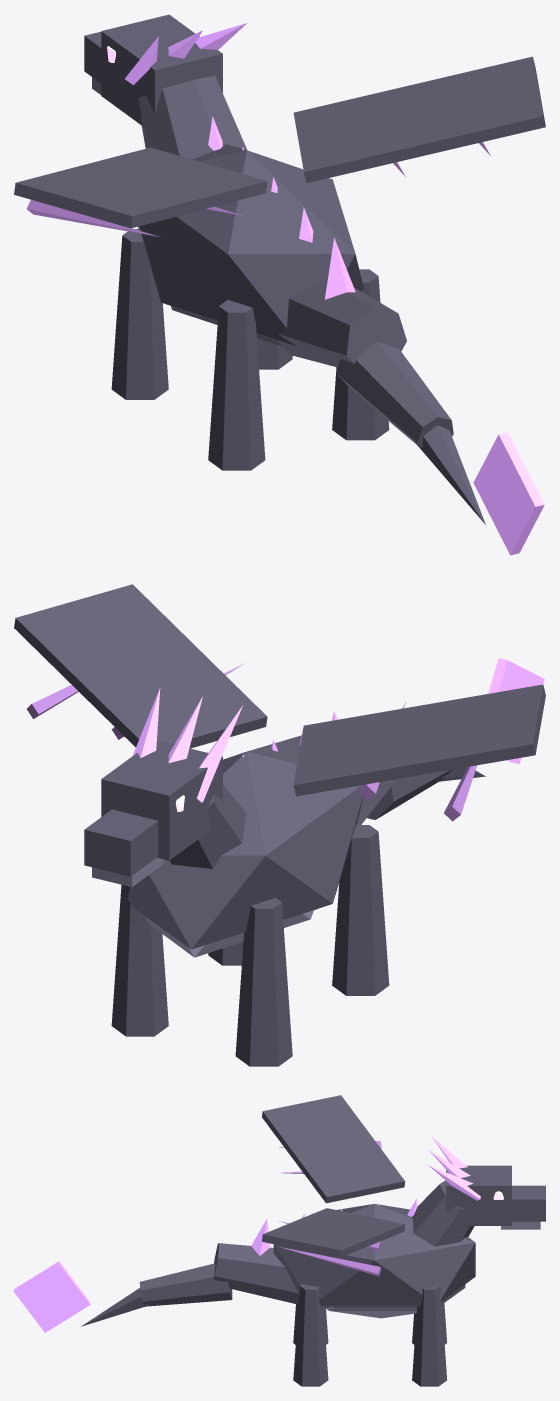
Rendered from dragon_shadow.glb.
The picture shows the model from 3 angles, top to bottom: view 1: azimuth 30°, elevation 25°; view 2: azimuth 150°, elevation 25°; view 3: azimuth 270°, elevation 25°; orthographic projection. The views are drawn at different scales.
Visible parts, largest first — view 1: DragonBody, DragonWingR, DragonWingL, DragonLegBL, DragonLegFL, DragonTailA, DragonHead, DragonTailB, DragonNeck, DragonTailFin, DragonLegBR, DragonTailC (+4 smaller); view 2: DragonBody, DragonWingR, DragonWingL, DragonHead, DragonLegFL, DragonLegBL, DragonLegFR, DragonSnout, DragonNeck, DragonTailB, DragonTailFin, DragonBelly (+7 smaller); view 3: DragonBody, DragonWingL, DragonWingR, DragonTailA, DragonHead, DragonTailFin, DragonLegBR, DragonLegFR, DragonTailB, DragonNeck, DragonSnout, DragonBelly (+3 smaller).
Part boxes in pixels (box(x1,y1,x2,y2)): DragonBody: box(138, 144, 363, 345); DragonWingR: box(293, 56, 545, 182); DragonWingL: box(14, 147, 267, 228); DragonLegBL: box(208, 300, 265, 470); DragonLegFL: box(111, 229, 168, 399); DragonTailA: box(276, 280, 406, 367); DragonHead: box(101, 14, 222, 126); DragonTailB: box(336, 341, 453, 447); DragonNeck: box(139, 76, 246, 159); DragonTailFin: box(473, 432, 544, 555); DragonLegBR: box(332, 269, 389, 440); DragonTailC: box(414, 425, 485, 524); DragonBody: box(127, 735, 363, 949); DragonWingR: box(14, 584, 267, 748); DragonWingL: box(293, 684, 545, 796); DragonHead: box(101, 740, 222, 860); DragonLegFL: box(235, 898, 292, 1066); DragonLegBL: box(332, 825, 389, 995); DragonLegFR: box(111, 884, 168, 1036); DragonSnout: box(84, 809, 158, 876); DragonNeck: box(169, 785, 246, 868); DragonTailB: box(367, 769, 451, 819); DragonTailFin: box(488, 658, 544, 764); DragonBelly: box(145, 910, 313, 957); DragonBody: box(273, 1204, 475, 1307); DragonWingL: box(262, 1095, 405, 1203); DragonWingR: box(262, 1208, 405, 1257); DragonTailA: box(213, 1243, 298, 1304); DragonHead: box(446, 1165, 511, 1225); DragonTailFin: box(14, 1261, 90, 1332); DragonLegBR: box(293, 1284, 328, 1386); DragonLegFR: box(412, 1285, 446, 1386); DragonTailB: box(139, 1263, 232, 1306); DragonNeck: box(411, 1180, 474, 1246); DragonSnout: box(512, 1185, 545, 1221); DragonBelly: box(324, 1284, 465, 1318).
Size of the model in its own units: 3.37 by 2.15 by 4.84.
